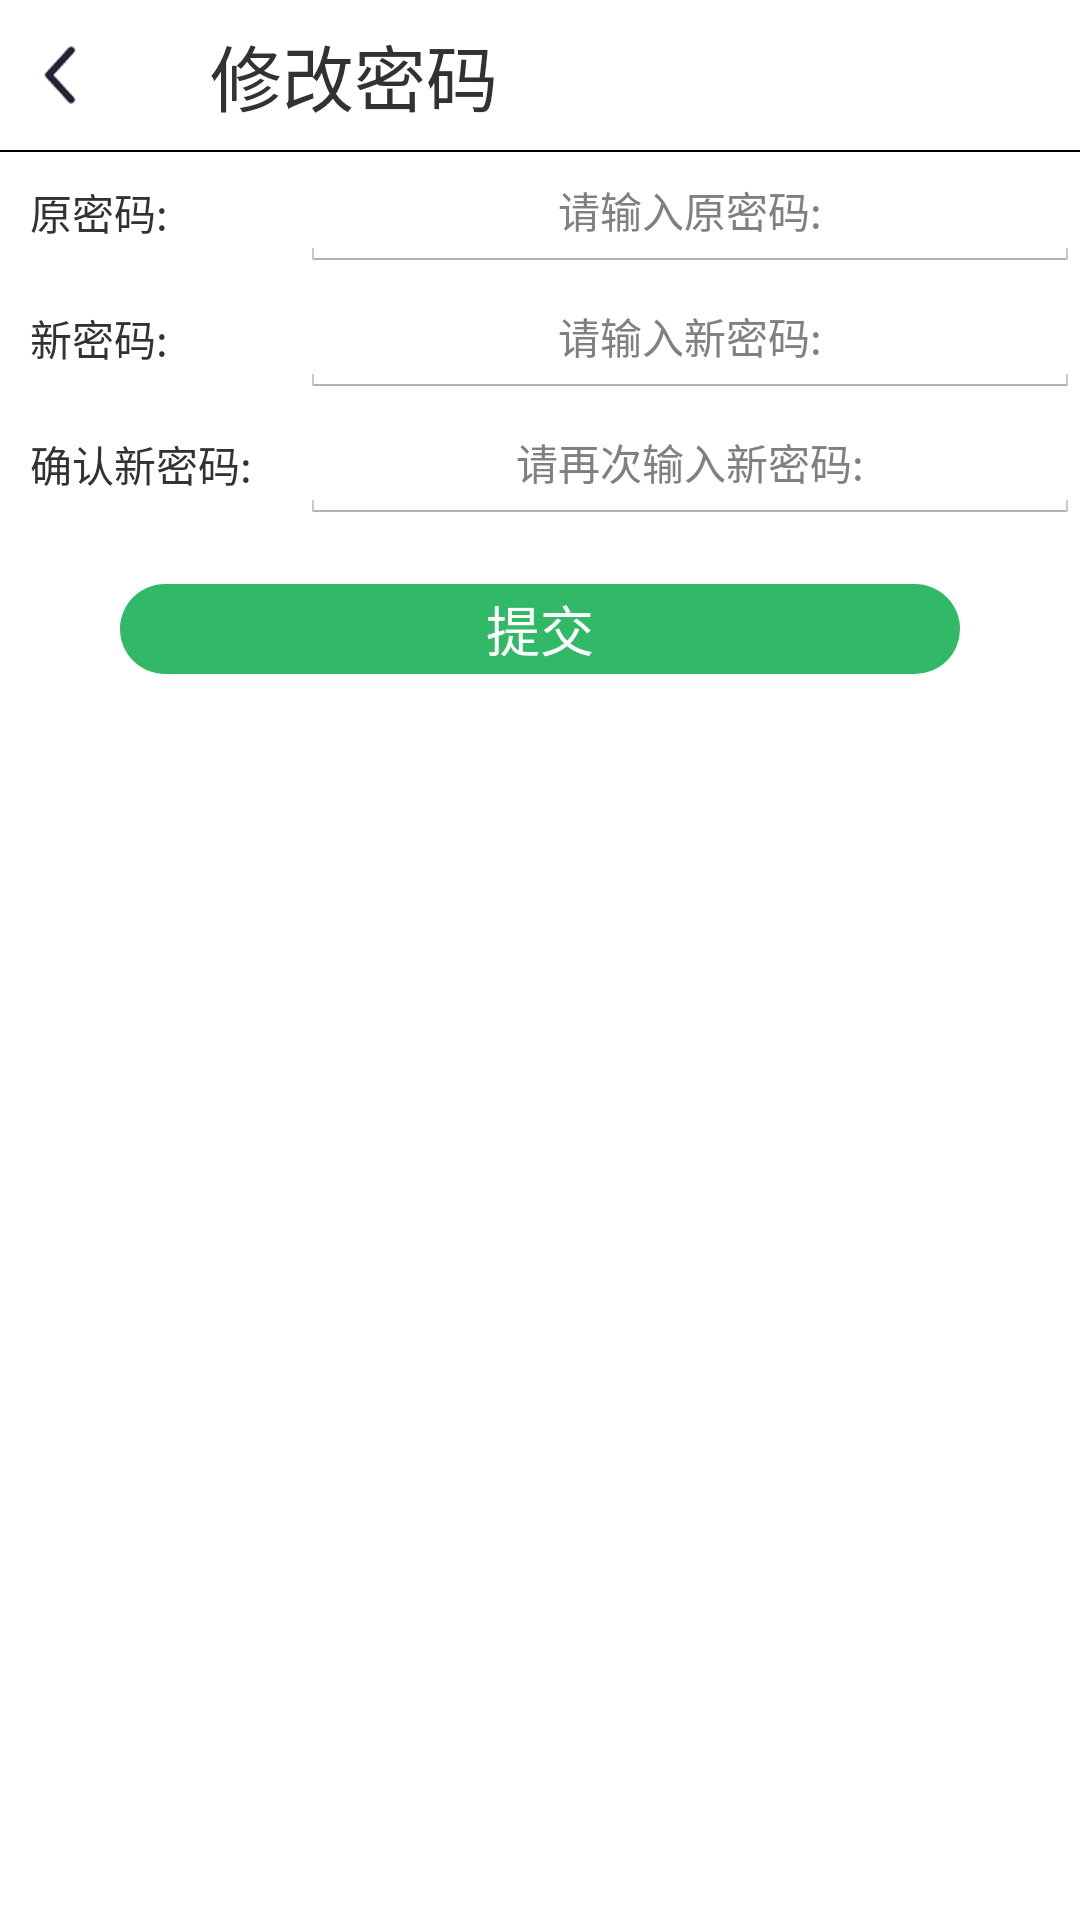

Screen size 1080px x 1920px. Icon name, then its center in pixels as (x=x, y=y):
arrow back: (x=60, y=75)
